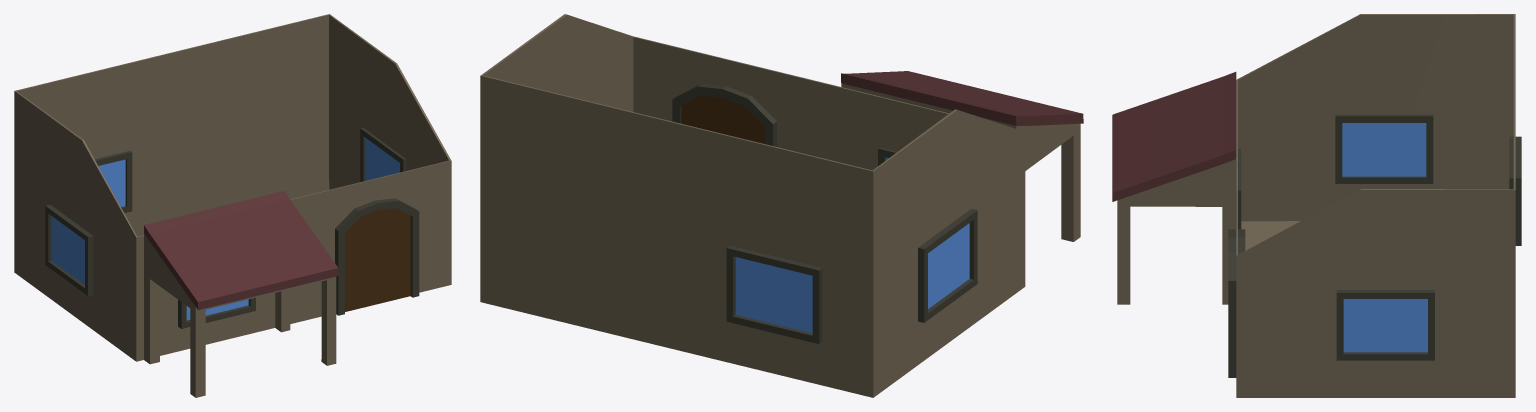
File: CajaCasa 2.3 Interior.fbx
3 views of the same model, side by side, from view 1: azimuth 30°, elevation 25°; view 2: azimuth 150°, elevation 25°; view 3: azimuth 270°, elevation 25° (orthographic). The views are drawn at different scales.
Visible parts, largest first — view 1: Base.006; view 2: Base.006; view 3: Base.006.
Boxes of the visible parts, x1,y1,x2,y2 form: Base.006: [14, 14, 451, 397]; Base.006: [480, 14, 1083, 397]; Base.006: [1112, 14, 1521, 397].
Size of the model in its own units: 849 by 453 by 809.
